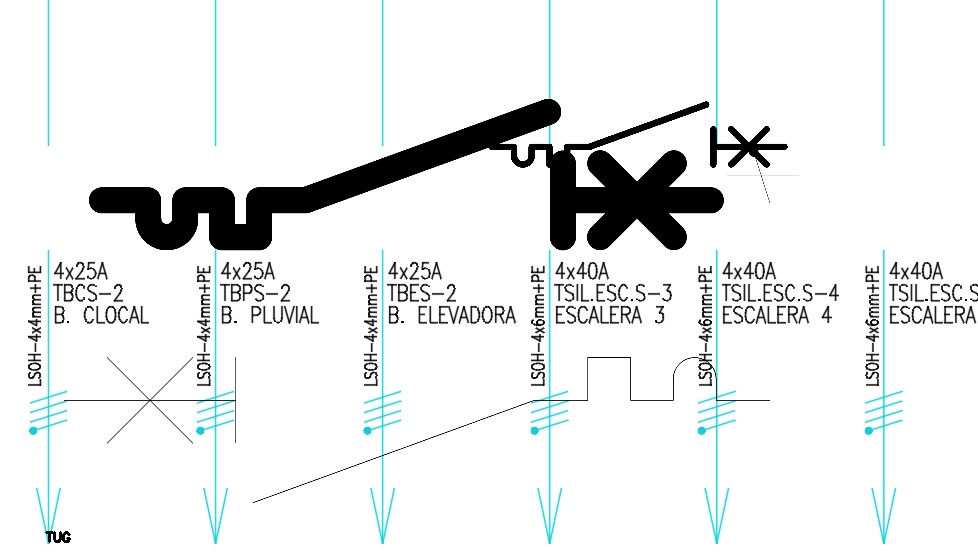interruptor_termomagnetico: (46, 339, 788, 520), (86, 96, 726, 253), (484, 97, 792, 172)
